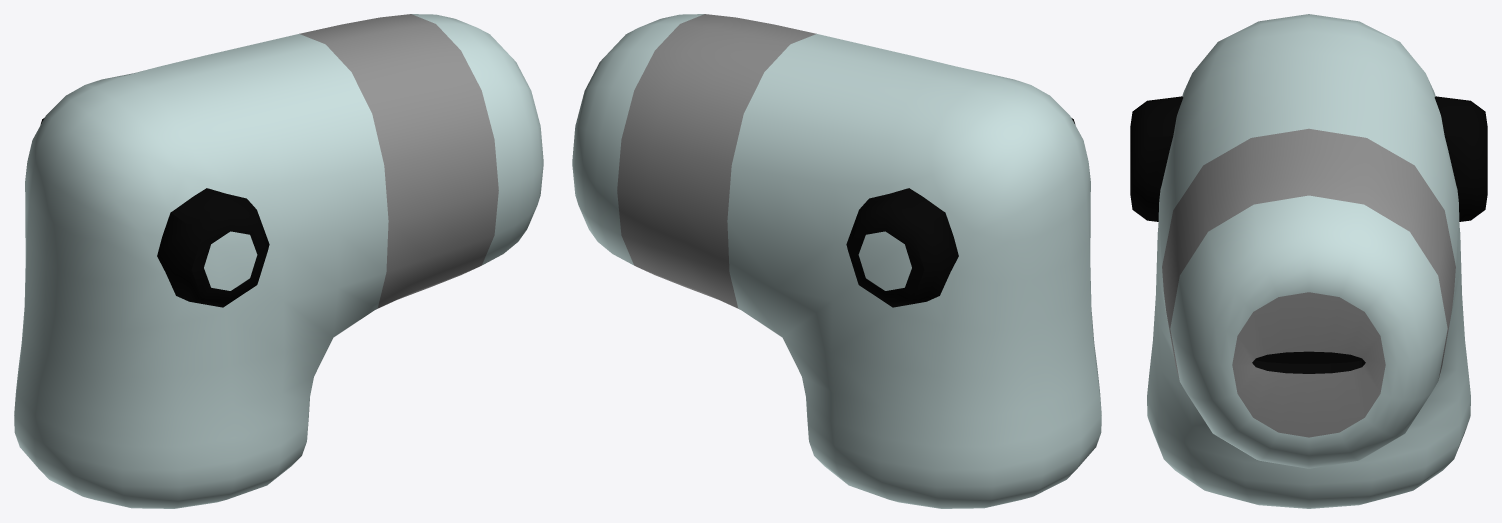
Rendered from Aquatic Head.fbx.
3 renders of one model, left to right at view 1: azimuth 30°, elevation 25°; view 2: azimuth 150°, elevation 25°; view 3: azimuth 270°, elevation 25°, orthographic. The views are drawn at different scales.
Parts seen in each view (by area): view 1: Cube.042; view 2: Cube.042; view 3: Cube.042.
Part boxes in pixels (box(x1,y1,x2,y2)): Cube.042: box(14, 14, 543, 508); Cube.042: box(572, 14, 1101, 508); Cube.042: box(1130, 14, 1487, 508).
Size of the model in its own units: 312 by 248 by 186.
